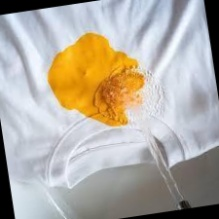mustard: (42, 28, 144, 133), (90, 67, 131, 115), (125, 67, 148, 93)
